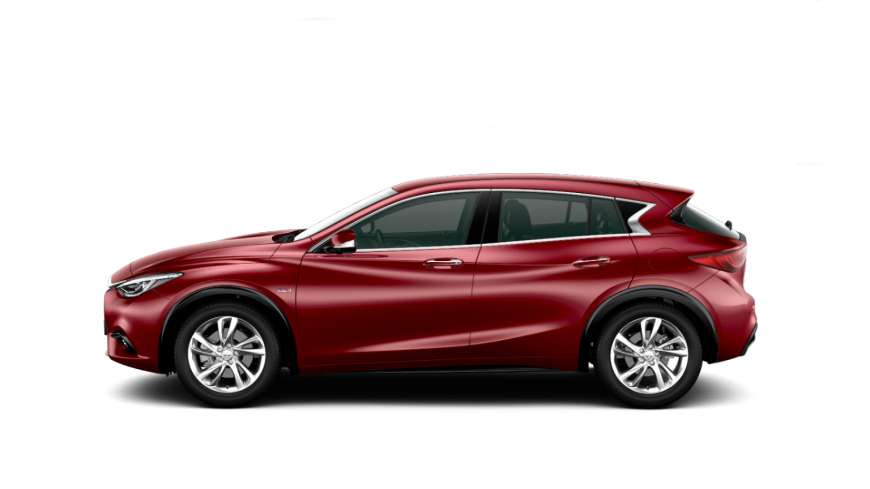car: (94, 164, 791, 424)
